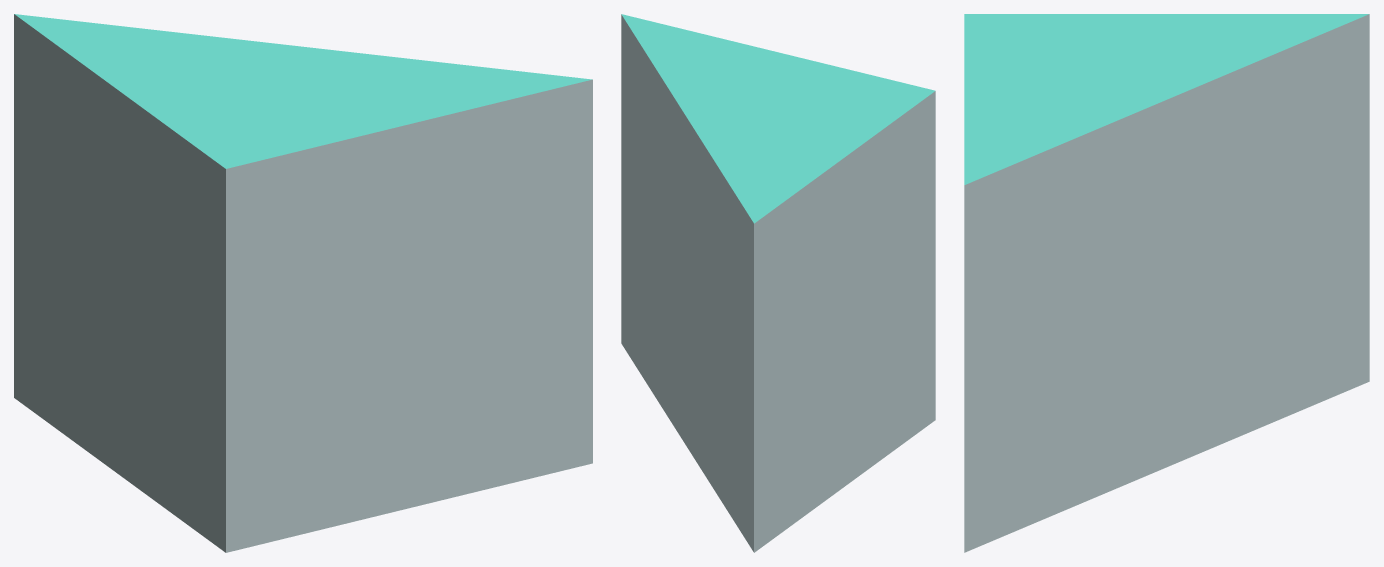
File: kenney-nature-cliff-block-diagonal-stone.glb
3 renders of one model, left to right at view 1: azimuth 30°, elevation 25°; view 2: azimuth 150°, elevation 25°; view 3: azimuth 270°, elevation 25°, orthographic. The views are drawn at different scales.
Parts seen in each view (by area): view 1: cliff_blockDiagonal_stone; view 2: cliff_blockDiagonal_stone; view 3: cliff_blockDiagonal_stone.
Boxes of the visible parts, x1,y1,x2,y2 form: cliff_blockDiagonal_stone: (14,14,592,552); cliff_blockDiagonal_stone: (621,14,935,552); cliff_blockDiagonal_stone: (964,14,1369,552).
Bounding box in the file's own units: 1 × 1 × 1.
